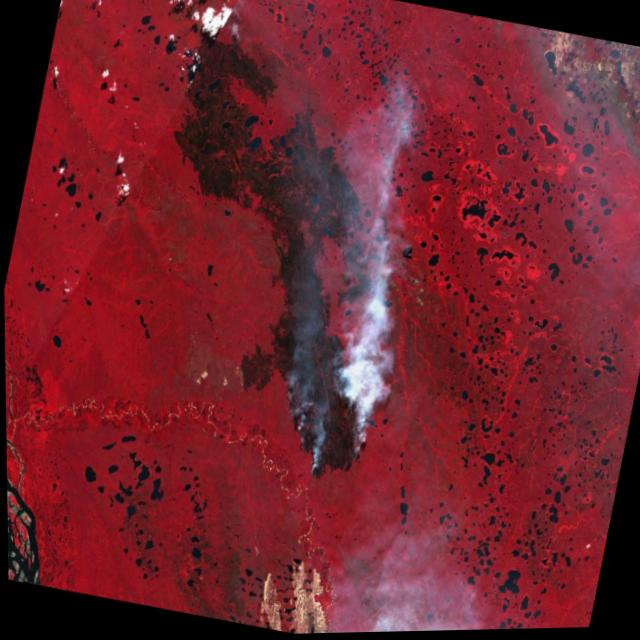fire: (265, 367, 379, 499)
